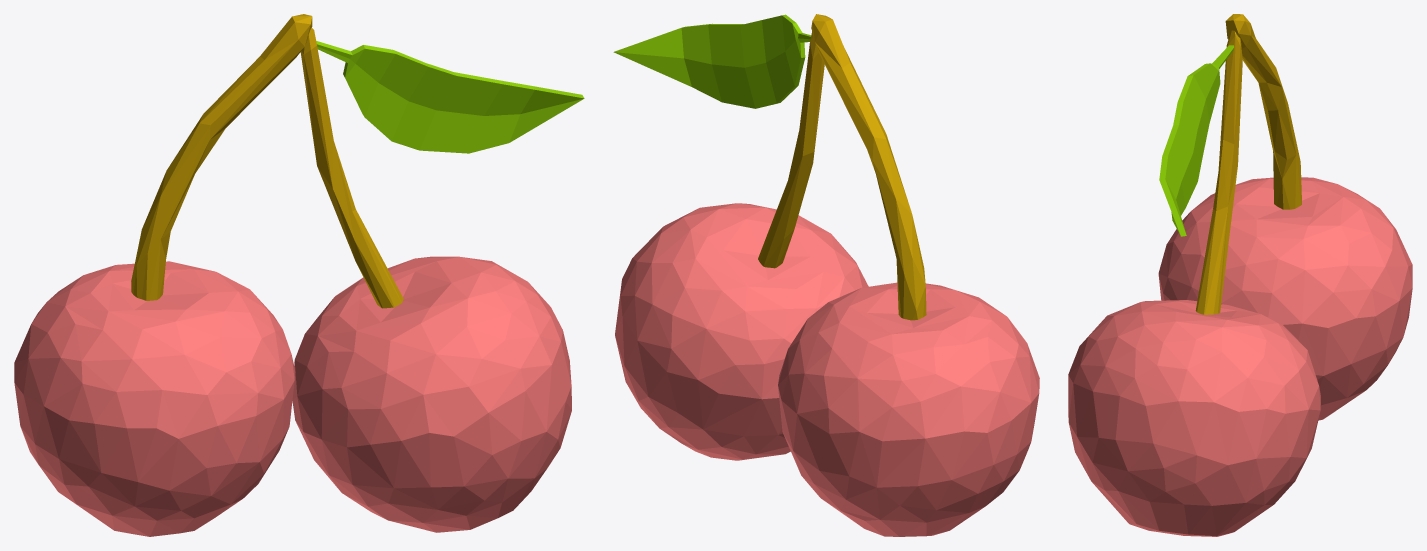
The model's file is Cherry.fbx.
3 views of the same model, side by side, from view 1: azimuth 30°, elevation 25°; view 2: azimuth 150°, elevation 25°; view 3: azimuth 270°, elevation 25° (orthographic). The views are drawn at different scales.
Visible parts, largest first — view 1: Cherry; view 2: Cherry; view 3: Cherry.
Boxes of the visible parts, x1,y1,x2,y2 form: Cherry: (14, 14, 584, 536); Cherry: (613, 14, 1039, 536); Cherry: (1068, 14, 1412, 536).
Bounding box in the file's own units: 1.54 × 1.53 × 1.03.
